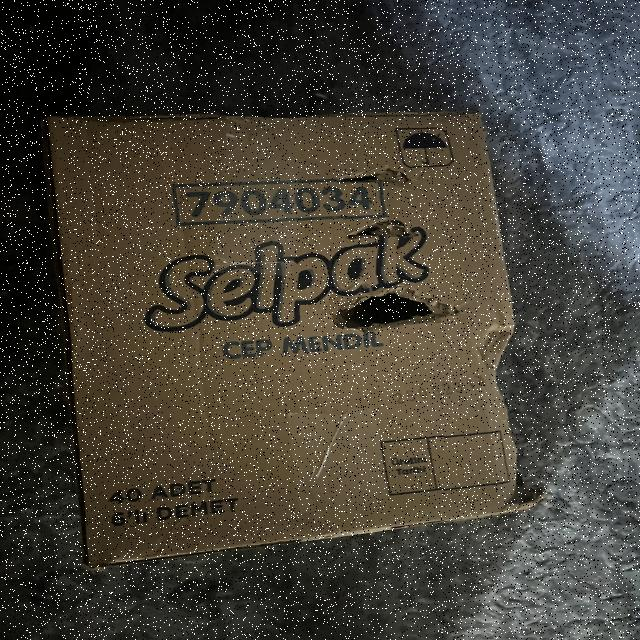damaged: (40, 105, 555, 583), (444, 316, 558, 525), (308, 275, 461, 338), (338, 157, 412, 195), (343, 214, 418, 247)
